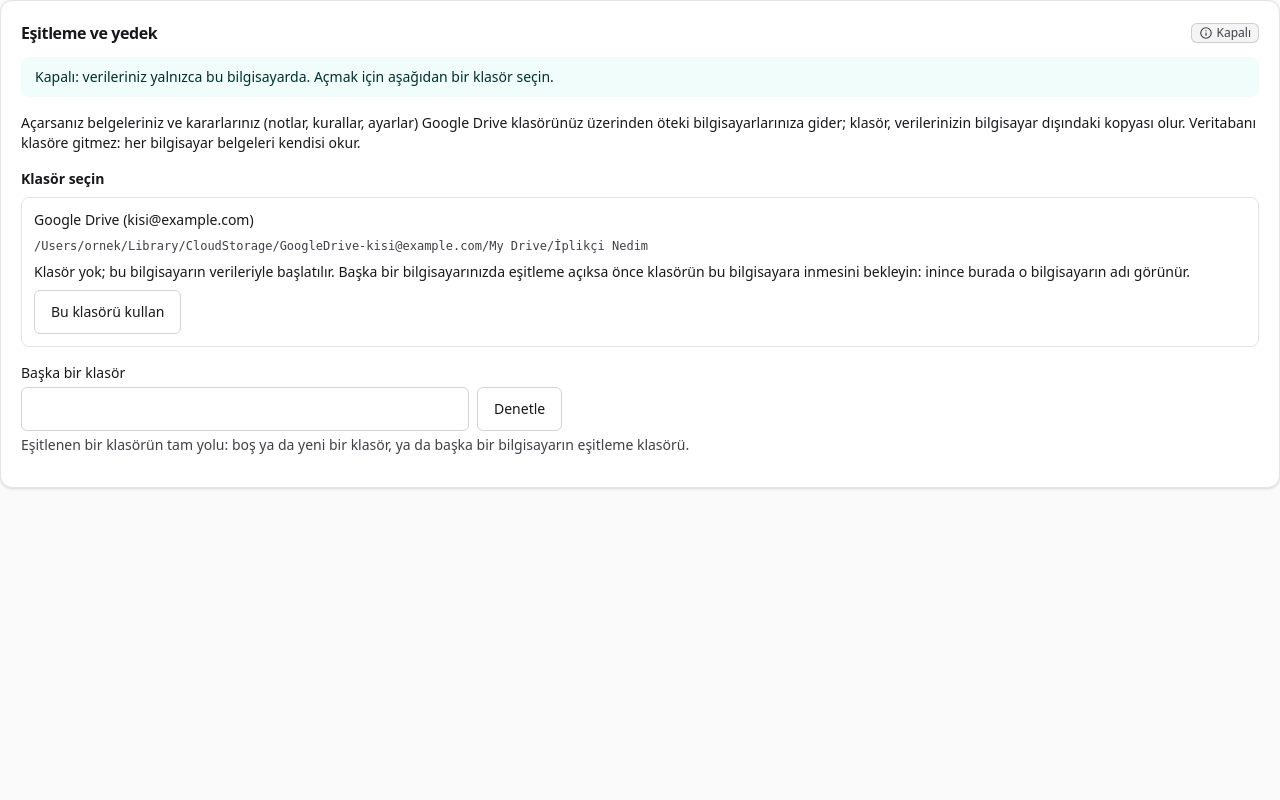
Test case: SyncCard while the sync is off › says why the service refused to turn the sync on, and keeps the choice open
Click the button with aria-label "Bu klasörü kullan: Google Drive (kisi@example.com)": (108, 312) [34,290,182,334]
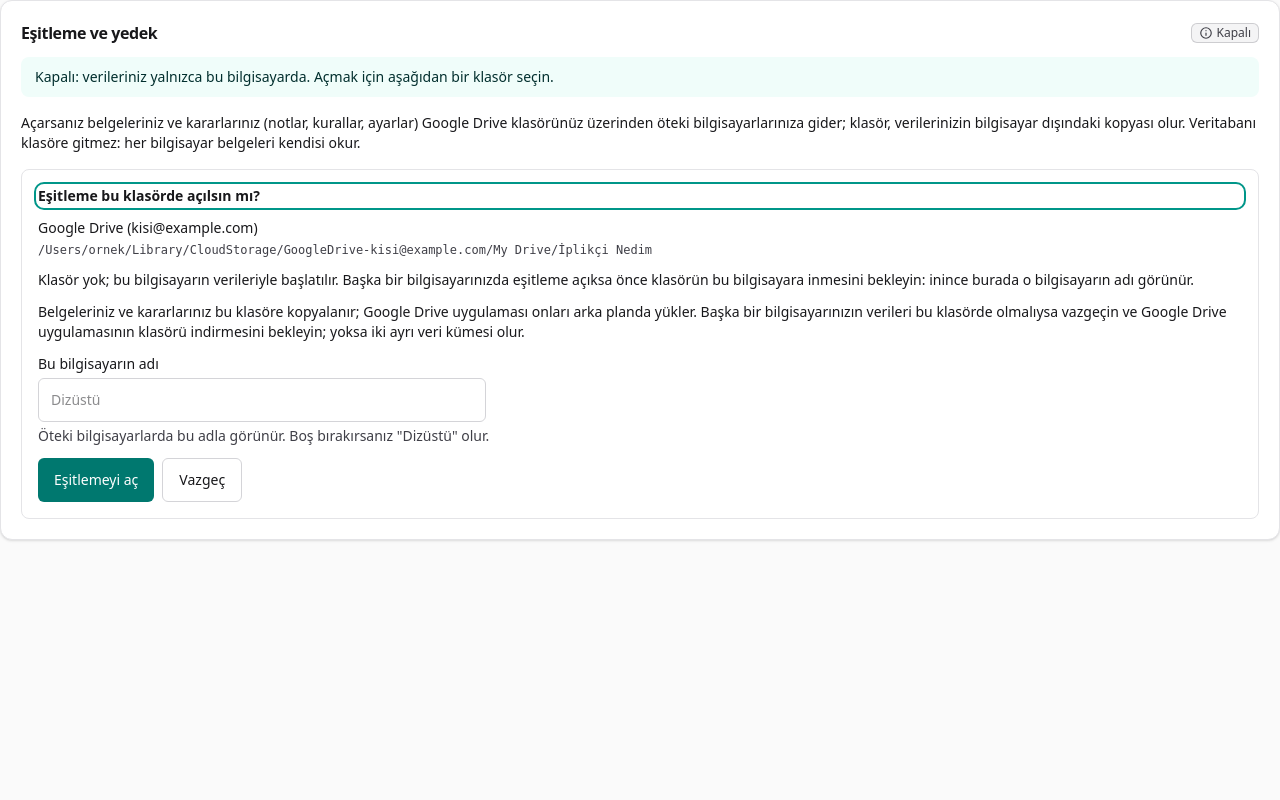
In the field labelled "Bu bilgisayarın adı": (262, 400) [38,378,486,422], type "  Ev bilgisayarı "
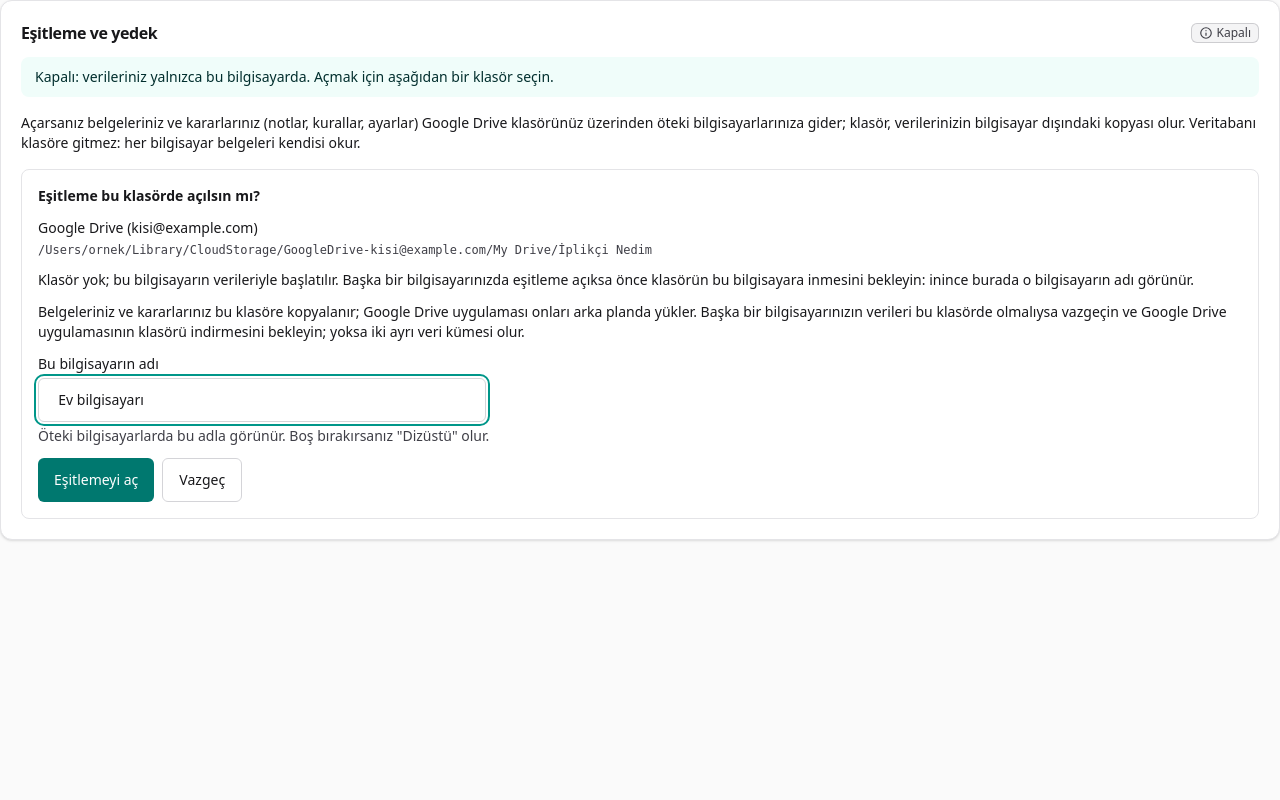
Click the button "Eşitlemeyi aç": (96, 480) [38,458,154,502]
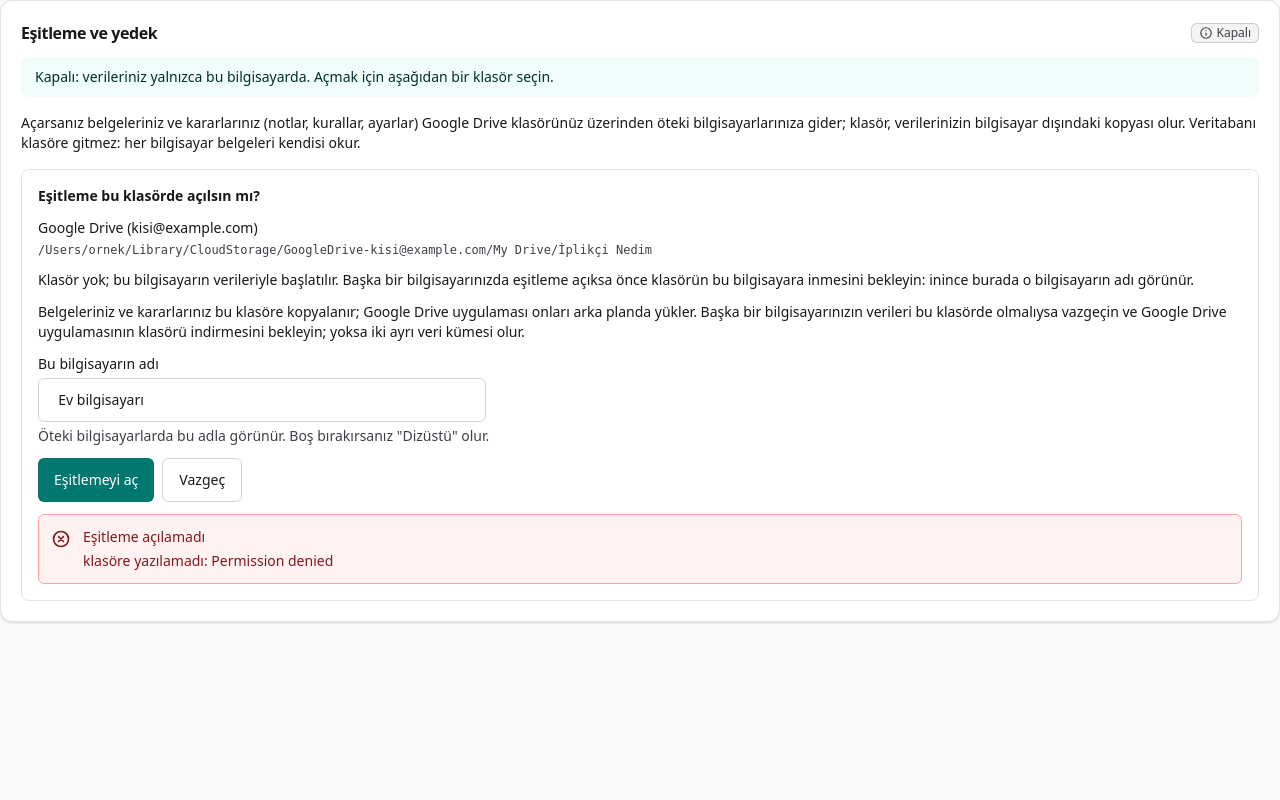
Expected: the text "Kapalı" is shown, [1190,23,1259,43]
Now the message shows "Eşitleme açılamadı", box [83,527,205,546]
Now the message shows "klasöre yazılamadı: Permission denied", box [83,551,333,570]
